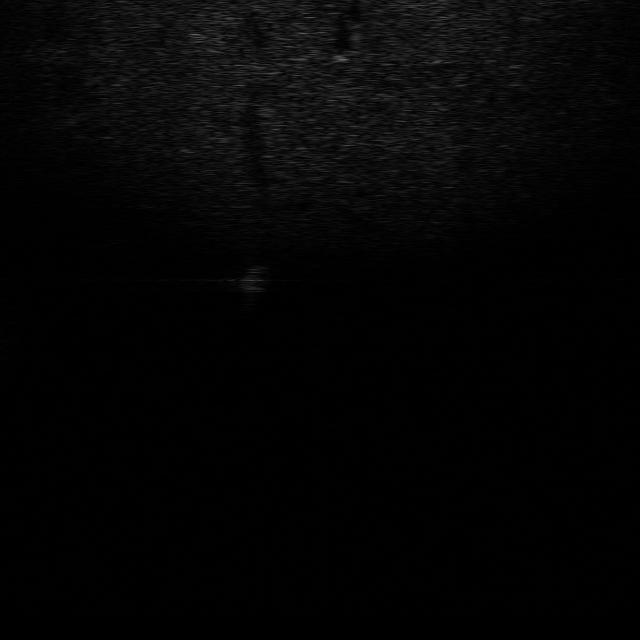human body: (232, 260, 272, 320)
